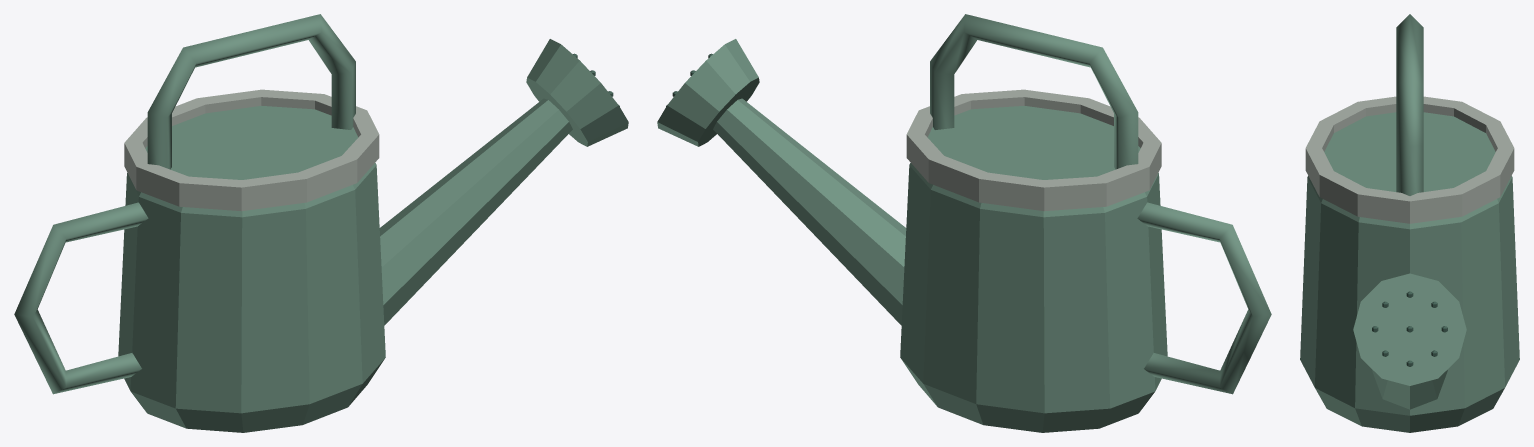
Rendered from watering_can_prototype_v01.glb.
3 views of the same model, side by side, from view 1: azimuth 30°, elevation 25°; view 2: azimuth 150°, elevation 25°; view 3: azimuth 270°, elevation 25° (orthographic). The views are drawn at different scales.
Parts seen in each view (by area): view 1: Watering can body.004, Tapered spout.004, Open rolled rim.004, Carry handle.004, Rear handle.004, Sprinkler rose.004; view 2: Watering can body.004, Tapered spout.004, Open rolled rim.004, Carry handle.004, Rear handle.004, Sprinkler rose.004; view 3: Watering can body.004, Open rolled rim.004, Sprinkler rose.004, Carry handle.004, Tapered spout.004.
Part boxes in pixels (x1,y1,x2,y2): Watering can body.004: [118, 106, 385, 432]; Tapered spout.004: [379, 98, 572, 325]; Open rolled rim.004: [124, 89, 379, 211]; Carry handle.004: [147, 14, 355, 169]; Rear handle.004: [14, 202, 148, 394]; Sprinkler rose.004: [526, 39, 628, 146]; Watering can body.004: [900, 106, 1167, 432]; Tapered spout.004: [713, 98, 906, 325]; Open rolled rim.004: [906, 89, 1161, 211]; Carry handle.004: [930, 14, 1138, 169]; Rear handle.004: [1137, 202, 1271, 394]; Sprinkler rose.004: [657, 39, 759, 146]; Watering can body.004: [1300, 112, 1519, 432]; Open rolled rim.004: [1305, 96, 1514, 223]; Sprinkler rose.004: [1353, 273, 1466, 385]; Carry handle.004: [1396, 14, 1423, 195]; Tapered spout.004: [1372, 370, 1447, 409].
Bounding box in the file's own units: 0.7201 × 0.4081 × 0.24.
